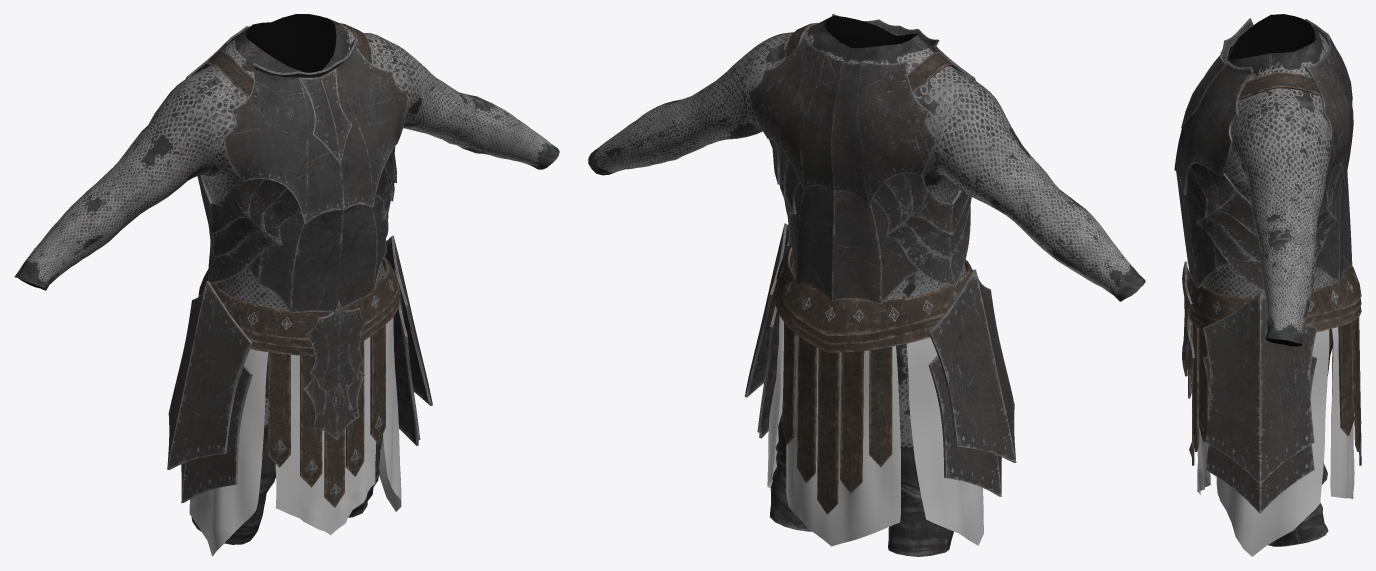
Rendered from sk_uruk_mordor_chainmail_elite_b1.fbx.
The picture shows the model from 3 angles, left to right: view 1: azimuth 30°, elevation 25°; view 2: azimuth 150°, elevation 25°; view 3: azimuth 270°, elevation 25°; orthographic projection. The views are drawn at different scales.
Parts seen in each view (by area): view 1: sk_uruk_mordor_chainmail_elite_b1.4, sk_uruk_mordor_chainmail_elite_b1.0, sk_uruk_mordor_chainmail_elite_b1.5, sk_uruk_mordor_chainmail_elite_b1.1, sk_uruk_mordor_chainmail_elite_b1.2, sk_uruk_mordor_chainmail_elite_b1.3; view 2: sk_uruk_mordor_chainmail_elite_b1.0, sk_uruk_mordor_chainmail_elite_b1.4, sk_uruk_mordor_chainmail_elite_b1.1, sk_uruk_mordor_chainmail_elite_b1.2, sk_uruk_mordor_chainmail_elite_b1.5; view 3: sk_uruk_mordor_chainmail_elite_b1.0, sk_uruk_mordor_chainmail_elite_b1.4, sk_uruk_mordor_chainmail_elite_b1.5, sk_uruk_mordor_chainmail_elite_b1.1, sk_uruk_mordor_chainmail_elite_b1.2, sk_uruk_mordor_chainmail_elite_b1.3.
Part boxes in pixels (x1,y1,x2,y2): sk_uruk_mordor_chainmail_elite_b1.4: (185, 17, 407, 313); sk_uruk_mordor_chainmail_elite_b1.0: (14, 14, 559, 544); sk_uruk_mordor_chainmail_elite_b1.5: (167, 235, 432, 503); sk_uruk_mordor_chainmail_elite_b1.1: (198, 23, 399, 507); sk_uruk_mordor_chainmail_elite_b1.2: (189, 317, 401, 556); sk_uruk_mordor_chainmail_elite_b1.3: (303, 300, 365, 440); sk_uruk_mordor_chainmail_elite_b1.0: (588, 15, 1145, 556); sk_uruk_mordor_chainmail_elite_b1.4: (749, 14, 975, 304); sk_uruk_mordor_chainmail_elite_b1.1: (774, 22, 972, 514); sk_uruk_mordor_chainmail_elite_b1.2: (767, 315, 983, 546); sk_uruk_mordor_chainmail_elite_b1.5: (744, 223, 1016, 496); sk_uruk_mordor_chainmail_elite_b1.0: (1202, 14, 1333, 546); sk_uruk_mordor_chainmail_elite_b1.4: (1174, 18, 1353, 291); sk_uruk_mordor_chainmail_elite_b1.5: (1203, 291, 1317, 513); sk_uruk_mordor_chainmail_elite_b1.1: (1188, 72, 1361, 465); sk_uruk_mordor_chainmail_elite_b1.2: (1197, 327, 1354, 556); sk_uruk_mordor_chainmail_elite_b1.3: (1182, 261, 1194, 398).
Bounding box in the file's own units: 1.37 × 0.4256 × 1.21.
